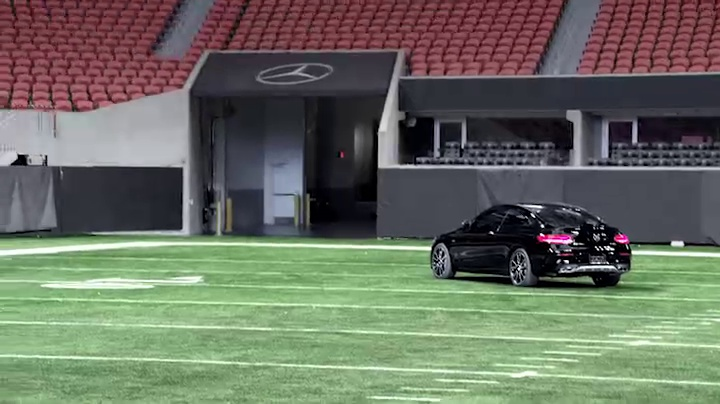amg: (429, 197, 632, 288)
